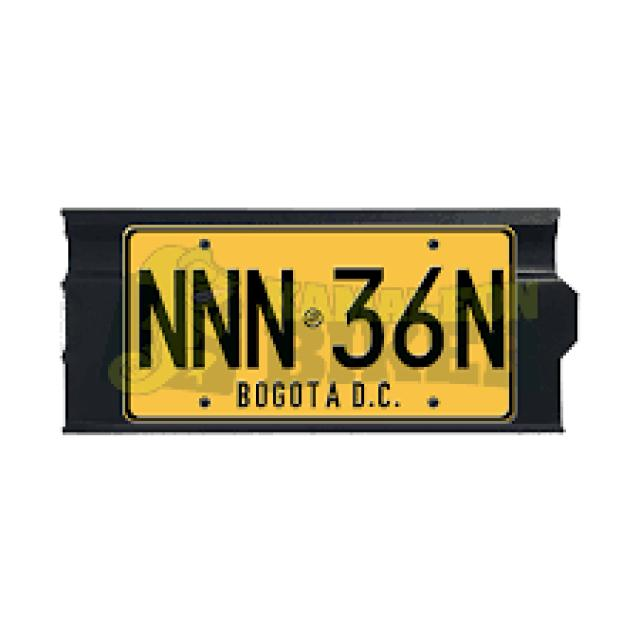placa_moto: (120, 227, 525, 430)
